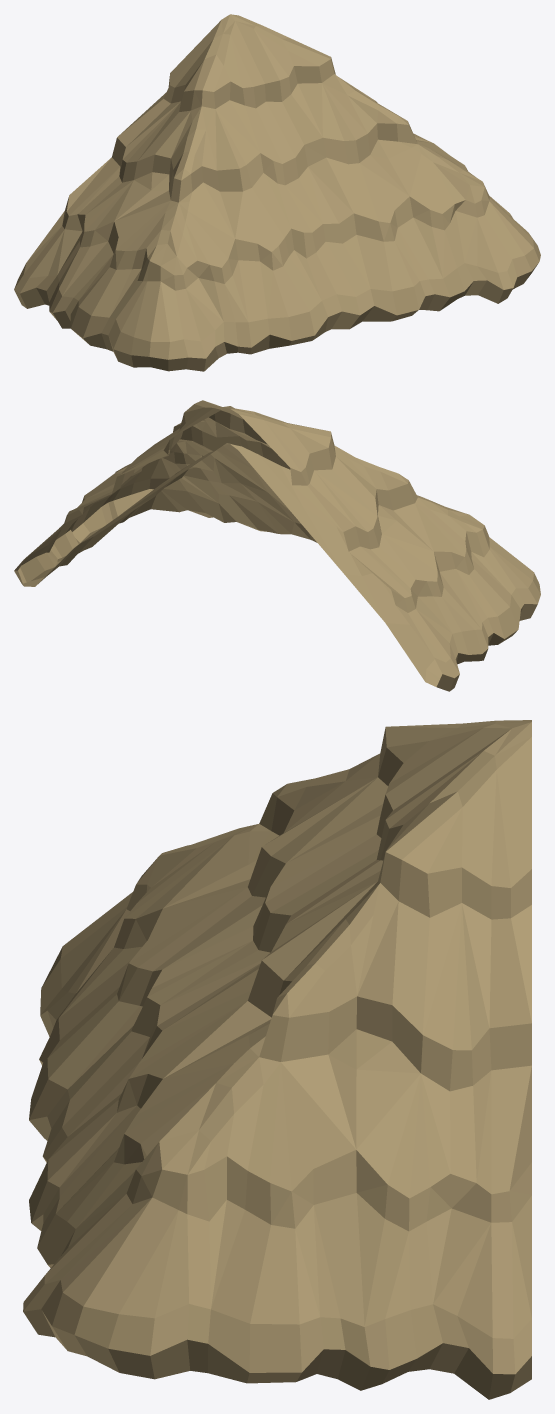
File: rpgpp_ag_roof_02_6x3x3_end_02.fbx
3 renders of one model, top to bottom at view 1: azimuth 30°, elevation 25°; view 2: azimuth 150°, elevation 25°; view 3: azimuth 270°, elevation 25°, orthographic. The views are drawn at different scales.
Visible parts, largest first — view 1: rpgpp_ag_roof_02_6x3x3_end_02; view 2: rpgpp_ag_roof_02_6x3x3_end_02; view 3: rpgpp_ag_roof_02_6x3x3_end_02.
Boxes of the visible parts, <box> form: rpgpp_ag_roof_02_6x3x3_end_02: <box>14,14,540,371</box>; rpgpp_ag_roof_02_6x3x3_end_02: <box>14,400,540,691</box>; rpgpp_ag_roof_02_6x3x3_end_02: <box>23,720,531,1399</box>.
Size of the model in its own units: 8.1 by 4.12 by 4.05.
